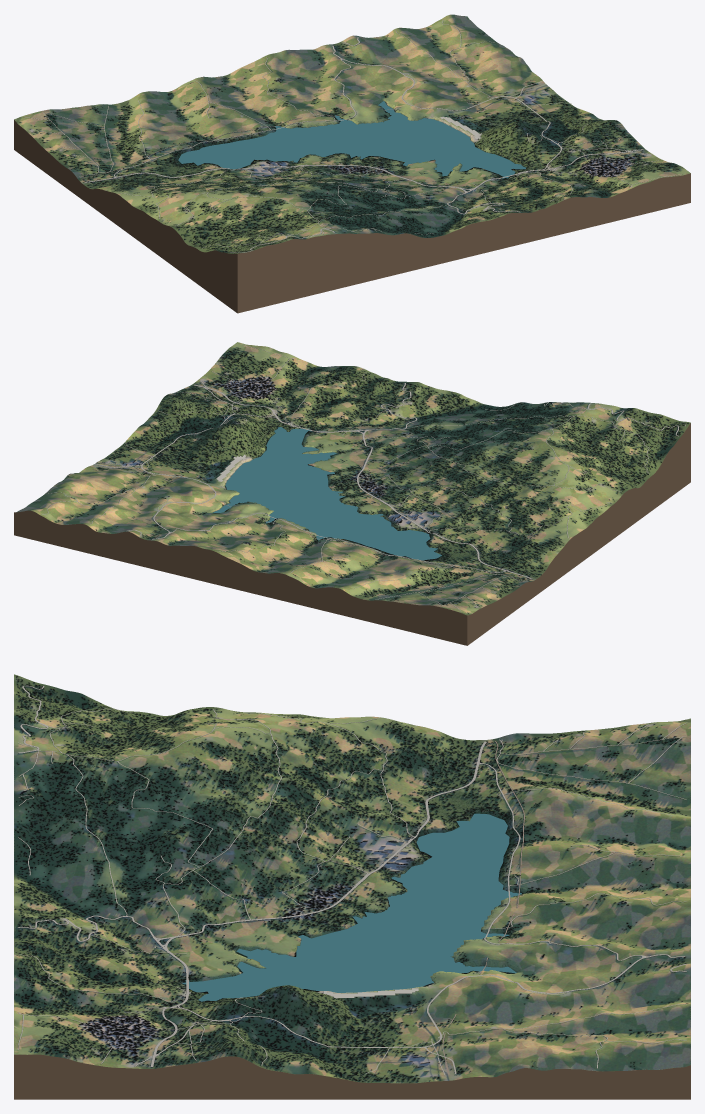
File: lago.glb
The picture shows the model from 3 angles, top to bottom: view 1: azimuth 30°, elevation 25°; view 2: azimuth 150°, elevation 25°; view 3: azimuth 270°, elevation 25°; orthographic projection. The views are drawn at different scales.
Parts seen in each view (by area): view 1: Terreno, Basamento, Lago, Strade; view 2: Terreno, Basamento, Lago, Strade; view 3: Terreno, Lago, Basamento, Strade.
Boxes of the visible parts, x1,y1,x2,y2 form: Terreno: [14, 14, 690, 253]; Basamento: [14, 120, 690, 313]; Lago: [178, 101, 526, 178]; Strade: [25, 20, 681, 252]; Terreno: [16, 342, 690, 615]; Basamento: [14, 423, 690, 645]; Lago: [212, 427, 441, 560]; Strade: [42, 345, 685, 611]; Terreno: [14, 674, 690, 1083]; Lago: [182, 813, 521, 1001]; Basamento: [14, 1054, 690, 1099]; Strade: [17, 678, 687, 1074].
Bounding box in the file's own units: 6734 × 860 × 5750.
Materials: 6 (1 with a texture image).
